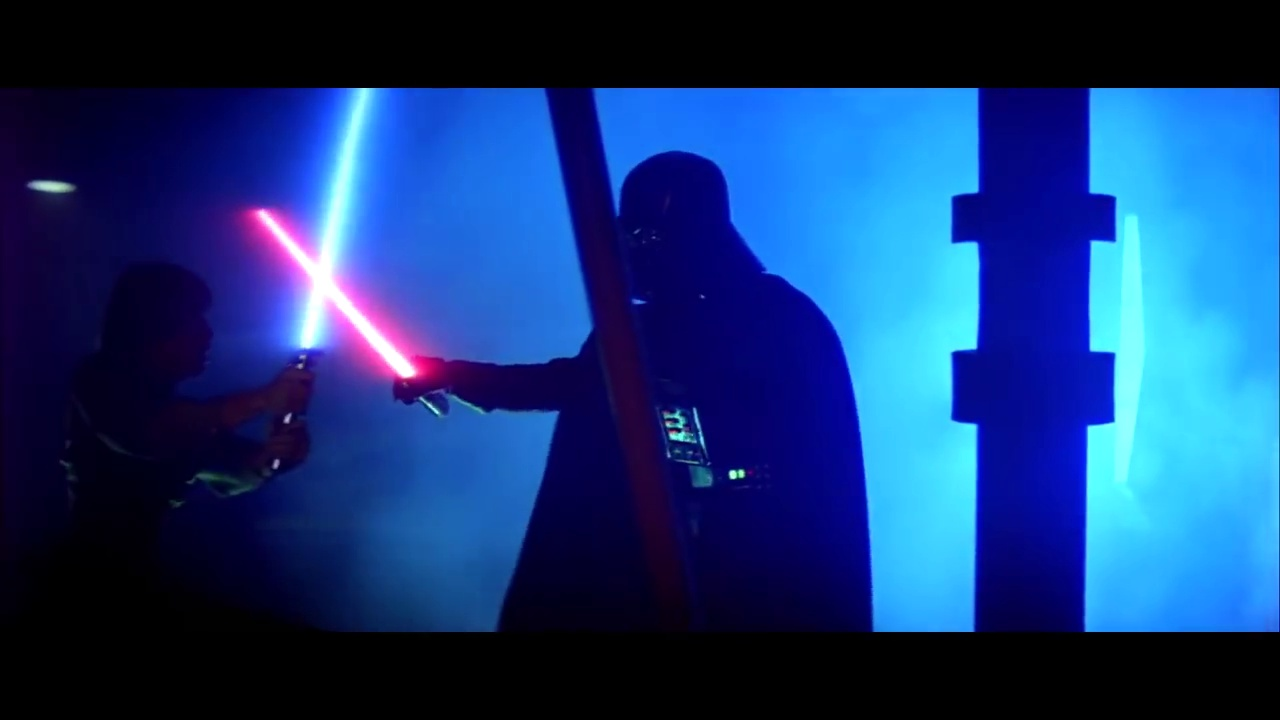lightsaber: (226, 84, 457, 426)
